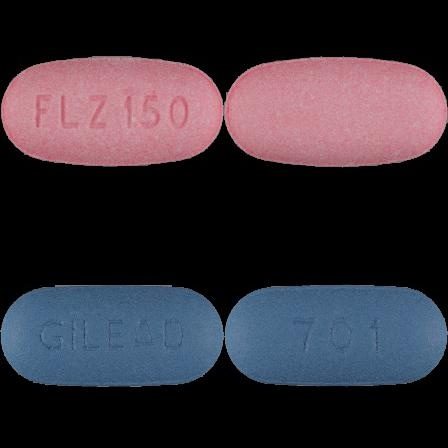54868-5129: (0, 0, 224, 224)
